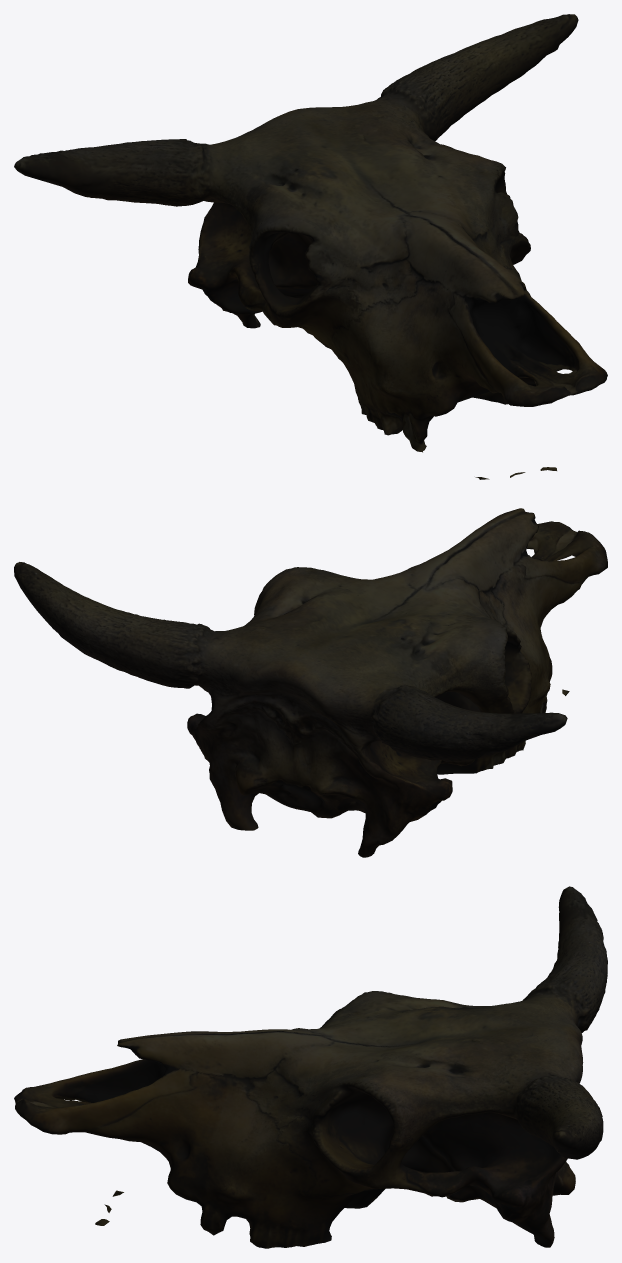
The model's file is model_obj-shvits.glb.
3 views of the same model, one above another, from view 1: azimuth 30°, elevation 25°; view 2: azimuth 150°, elevation 25°; view 3: azimuth 270°, elevation 25° (orthographic). The views are drawn at different scales.
Parts seen in each view (by area): view 1: Node1; view 2: Node1; view 3: Node1.
Boxes of the visible parts, box(x1,y1,x2,y2) form: Node1: box(14, 14, 607, 479); Node1: box(14, 508, 607, 857); Node1: box(14, 886, 607, 1248).
Size of the model in its own units: 0.5002 by 0.1885 by 0.4737.
Materials: 1 (1 with a texture image).
